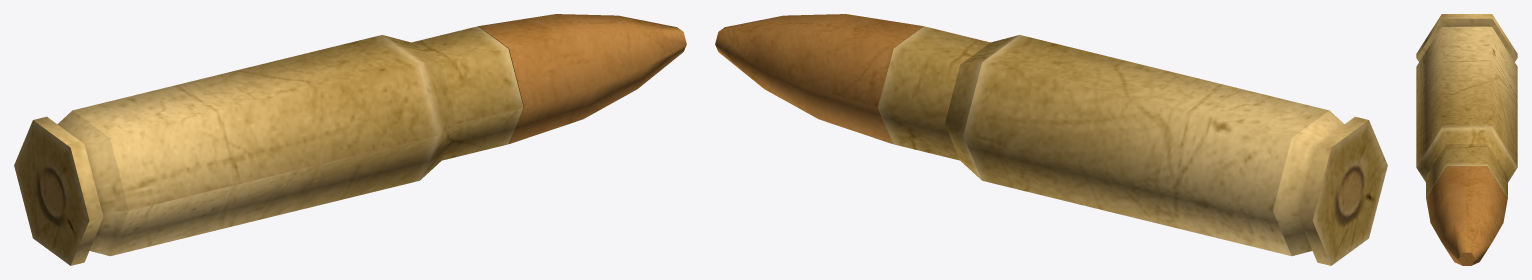
Rendered from 762Ammo.FBX.
3 views of the same model, side by side, from view 1: azimuth 30°, elevation 25°; view 2: azimuth 150°, elevation 25°; view 3: azimuth 270°, elevation 25° (orthographic). The views are drawn at different scales.
Visible parts, largest first — view 1: 762casing, 762bullet; view 2: 762casing, 762bullet; view 3: 762casing, 762bullet.
Boxes of the visible parts, x1,y1,x2,y2 form: 762casing: [14, 26, 523, 265]; 762bullet: [478, 14, 686, 143]; 762casing: [878, 26, 1387, 265]; 762bullet: [715, 14, 923, 143]; 762casing: [1416, 14, 1517, 197]; 762bullet: [1426, 166, 1507, 265].
Size of the model in its own units: 12.28 by 2.21 by 2.55.
